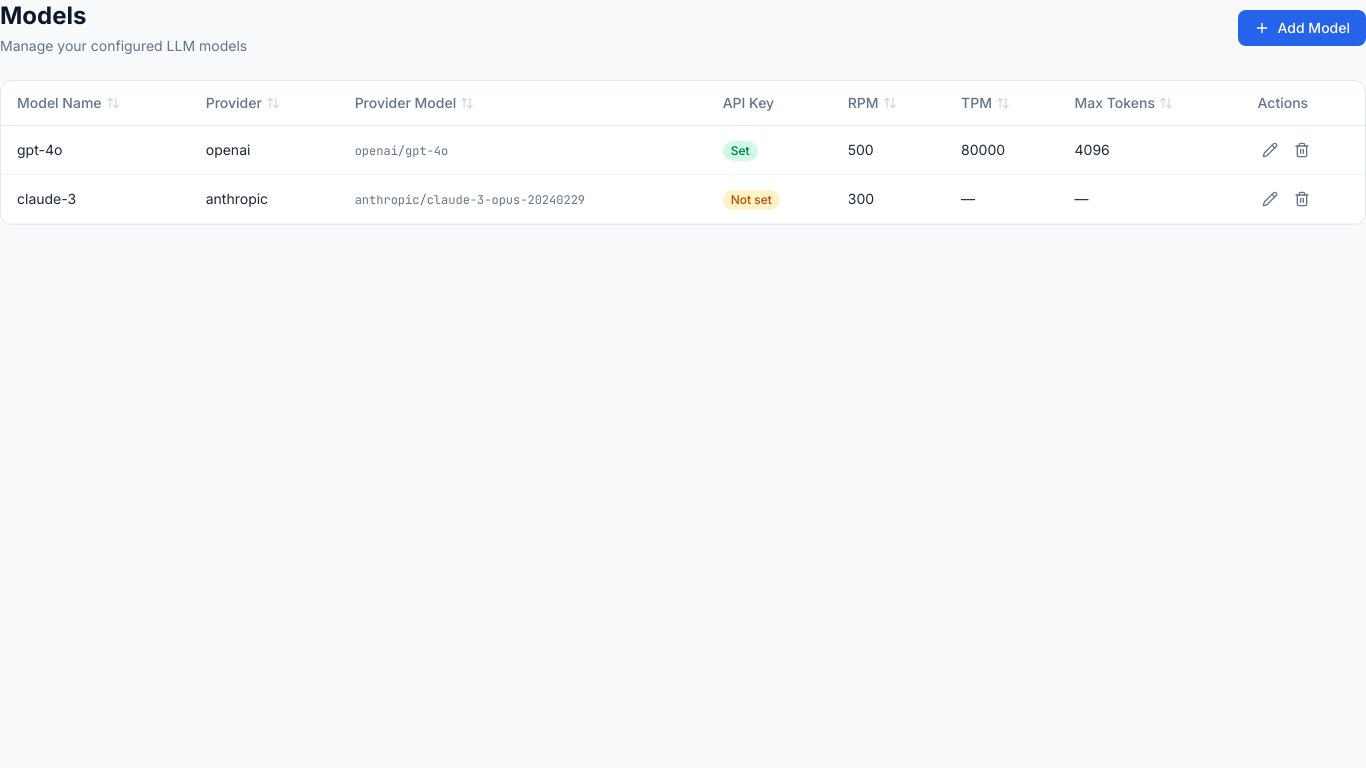
Test case: Models Page › opens add model modal
Click the button "Add Model": (1302,28) [1238, 10, 1365, 46]
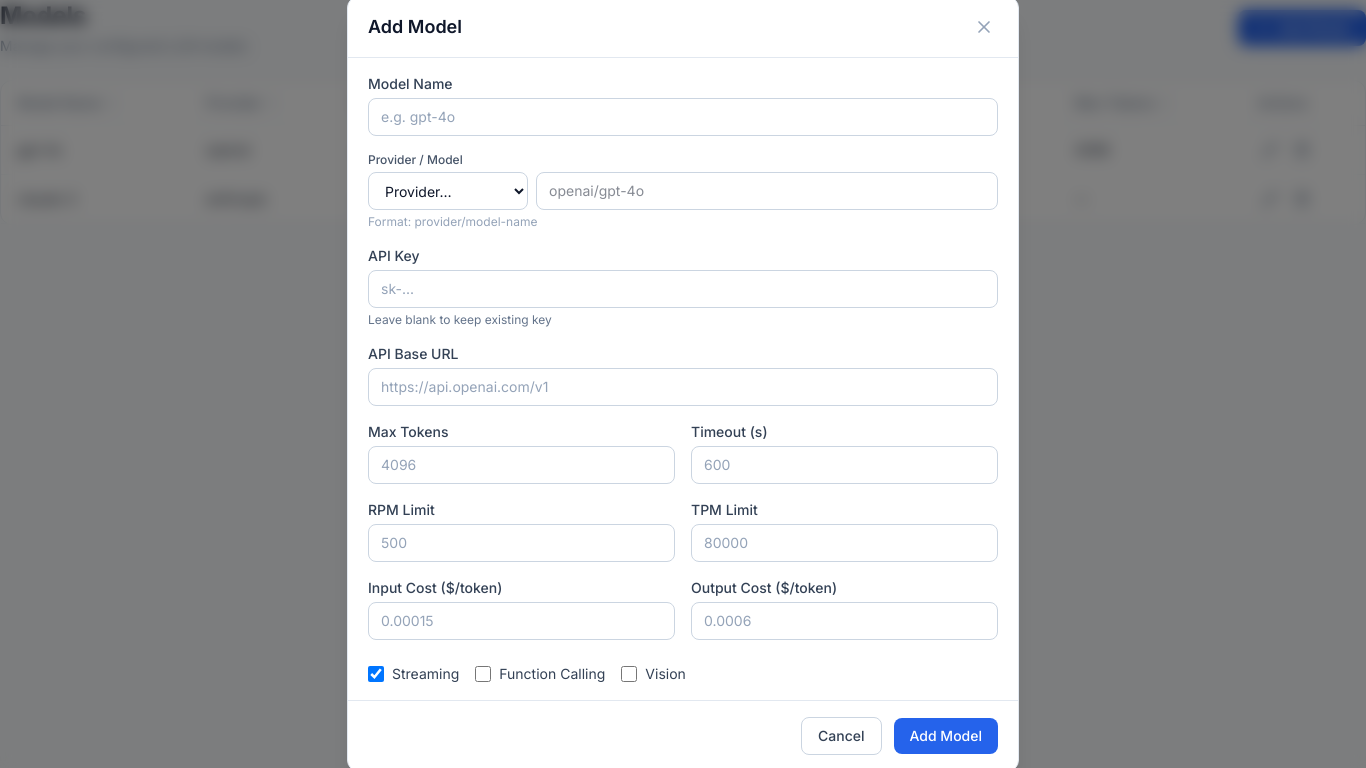
expect the text "Provider / Model" is shown: met, box [368, 152, 463, 167]
